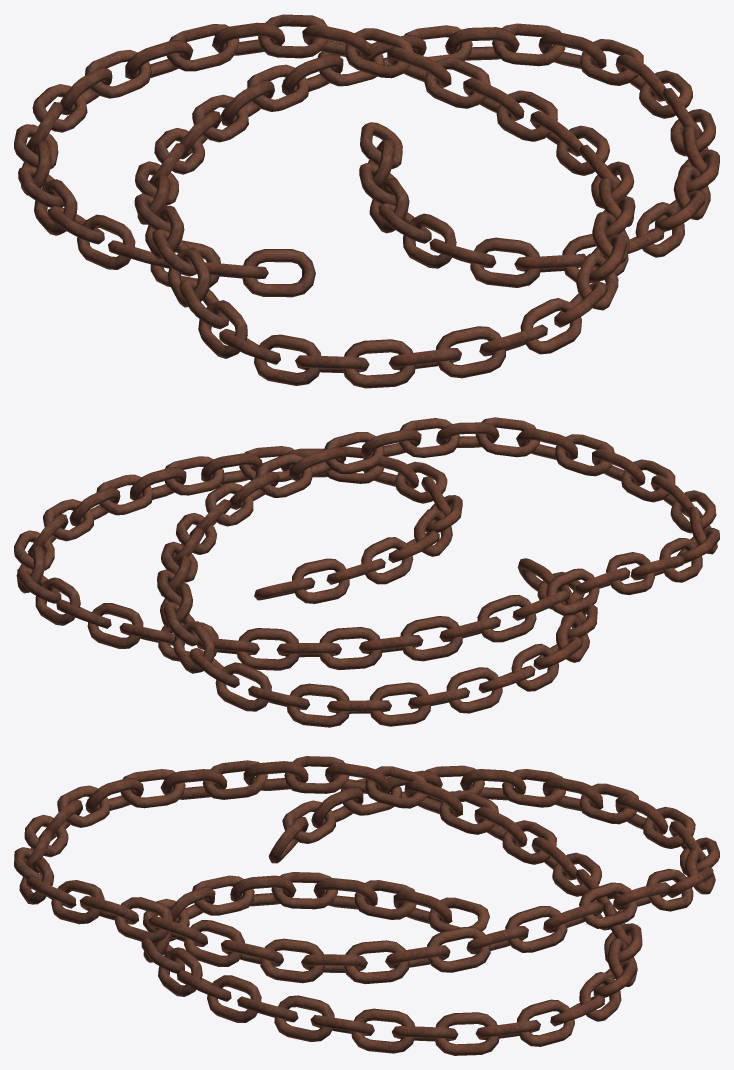
File: SM_Chain_02.fbx
3 renders of one model, top to bottom at view 1: azimuth 30°, elevation 25°; view 2: azimuth 150°, elevation 25°; view 3: azimuth 270°, elevation 25°, orthographic. The views are drawn at different scales.
Visible parts, largest first — view 1: SM_Chain_02_LOD0; view 2: SM_Chain_02_LOD0; view 3: SM_Chain_02_LOD0.
Boxes of the visible parts, x1,y1,x2,y2 form: SM_Chain_02_LOD0: [14, 14, 719, 388]; SM_Chain_02_LOD0: [14, 417, 719, 727]; SM_Chain_02_LOD0: [14, 756, 719, 1055].
Size of the model in its own units: 135 by 150 by 16.91.
1 material, 1 textured.
